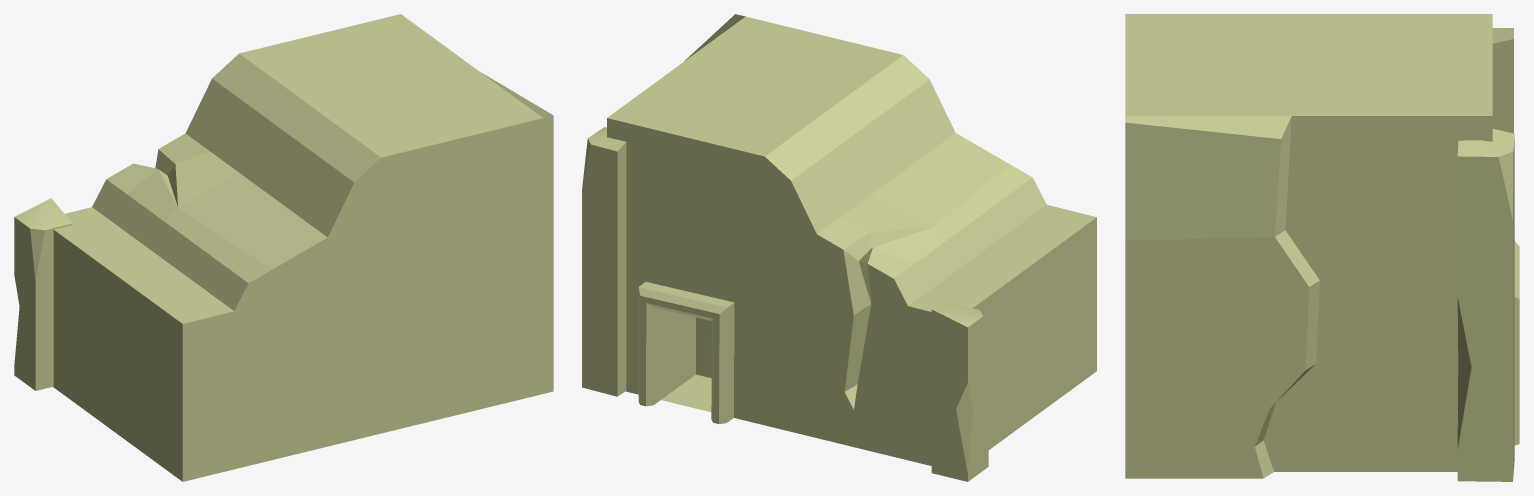
File: a_ruin_01.fbx
3 renders of one model, left to right at view 1: azimuth 30°, elevation 25°; view 2: azimuth 150°, elevation 25°; view 3: azimuth 270°, elevation 25°, orthographic. The views are drawn at different scales.
Visible parts, largest first — view 1: a_ruin_01; view 2: a_ruin_01; view 3: a_ruin_01.
Boxes of the visible parts, <box> form: a_ruin_01: <box>14,14,553,481</box>; a_ruin_01: <box>582,14,1096,481</box>; a_ruin_01: <box>1125,14,1519,481</box>.
Size of the model in its own units: 1108 by 737 by 739.
